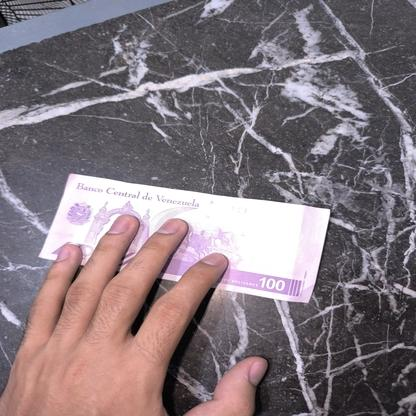one_hundred-back-vef: (37, 172, 330, 302)
